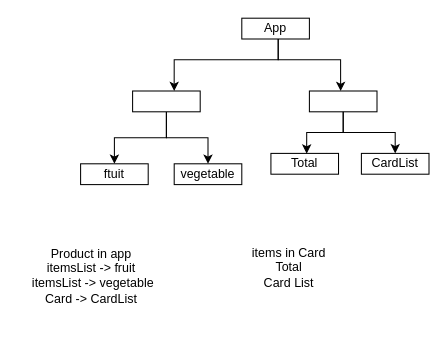
Some shapes in this 447 by 348 pixel diagram are drawn without their labels. Here are the shapes that lost their labels. From the top down, the centre of each, then its label:
(166,101): ItemsList
(342,101): Card
